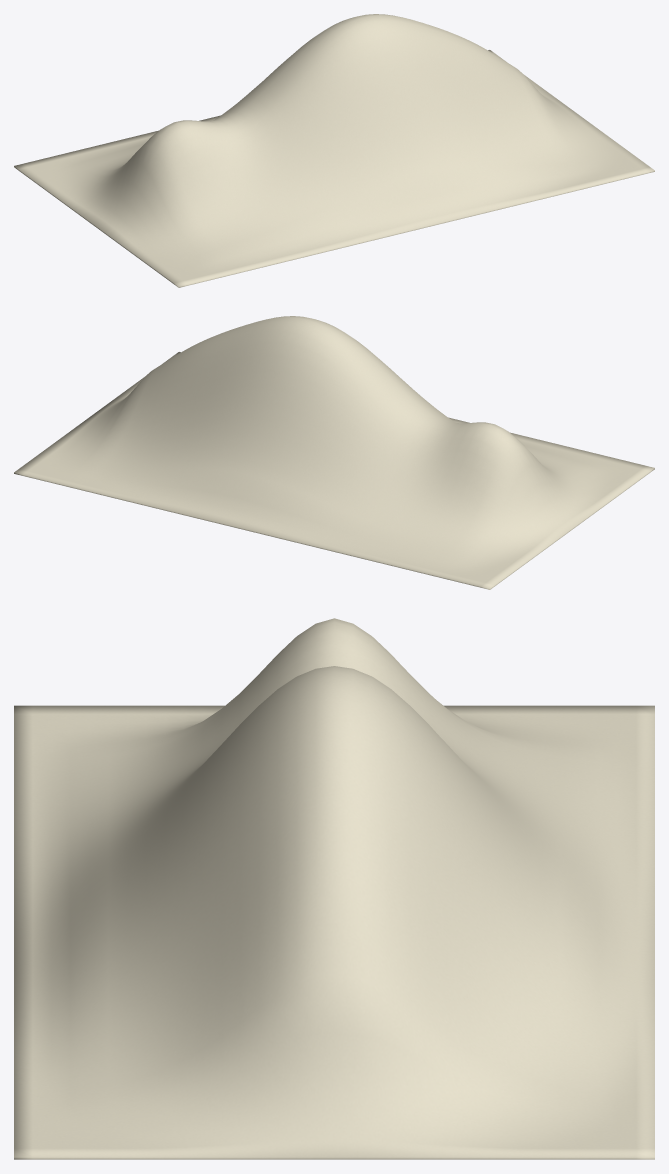
The model's file is PRP_Blanket_Covered.fbx.
3 views of the same model, one above another, from view 1: azimuth 30°, elevation 25°; view 2: azimuth 150°, elevation 25°; view 3: azimuth 270°, elevation 25° (orthographic). The views are drawn at different scales.
Parts seen in each view (by area): view 1: PRP_Blanket_Covered; view 2: PRP_Blanket_Covered; view 3: PRP_Blanket_Covered.
Boxes of the visible parts, left/top/right/bottom form: PRP_Blanket_Covered: left=14, top=14, right=654, bottom=287; PRP_Blanket_Covered: left=14, top=316, right=654, bottom=589; PRP_Blanket_Covered: left=14, top=618, right=654, bottom=1159.
Size of the model in its own units: 150 by 43.58 by 90.
